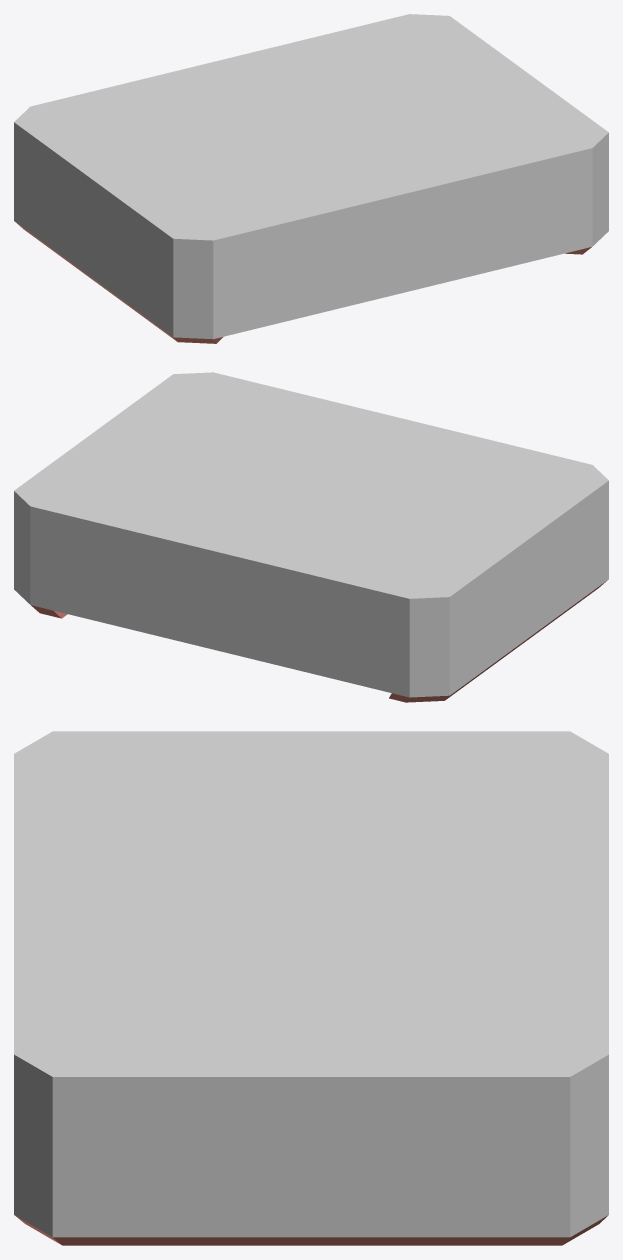
The model's file is gmail.glb.
The picture shows the model from 3 angles, top to bottom: view 1: azimuth 30°, elevation 25°; view 2: azimuth 150°, elevation 25°; view 3: azimuth 270°, elevation 25°; orthographic projection. The views are drawn at different scales.
Visible parts, largest first — view 1: Cube.001; view 2: Cube.001; view 3: Cube.001.
Part boxes in pixels (x1,y1,x2,y2): Cube.001: (14,14,608,343); Cube.001: (14,372,608,702); Cube.001: (14,731,608,1245).
Size of the model in its own units: 0.1649 by 0.0388 by 0.12.
